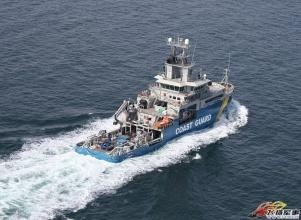otherboat: (73, 34, 232, 162)
